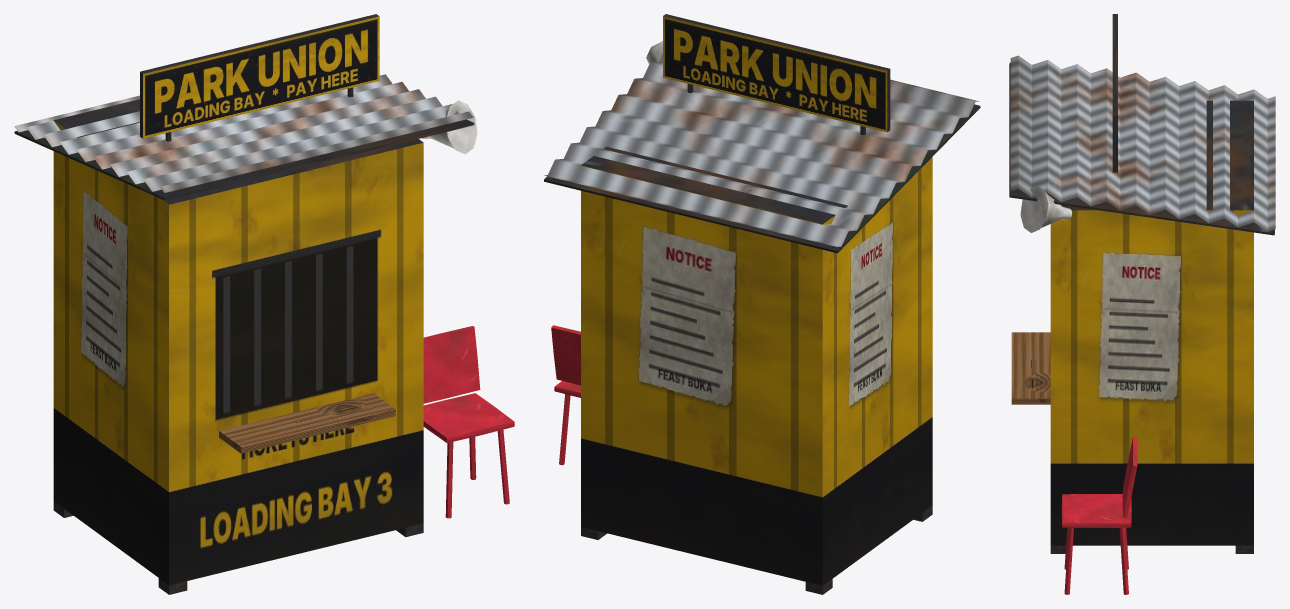
Rendered from bp_booth.glb.
The picture shows the model from 3 angles, left to right: view 1: azimuth 30°, elevation 25°; view 2: azimuth 150°, elevation 25°; view 3: azimuth 270°, elevation 25°; orthographic projection. The views are drawn at different scales.
Parts seen in each view (by area): view 1: bp_booth_body; view 2: bp_booth_body; view 3: bp_booth_body.
Part boxes in pixels (left/top/right/bottom): bp_booth_body: left=14, top=14, right=514, bottom=594; bp_booth_body: left=544, top=14, right=980, bottom=594; bp_booth_body: left=1009, top=14, right=1275, bottom=594.
Bounding box in the file's own units: 2.09 × 2.59 × 1.44.
Materials: 1 (1 with a texture image).
